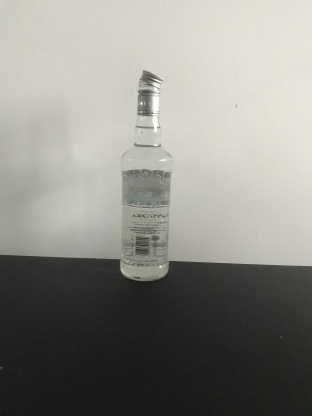nakretka: (135, 67, 165, 116)
